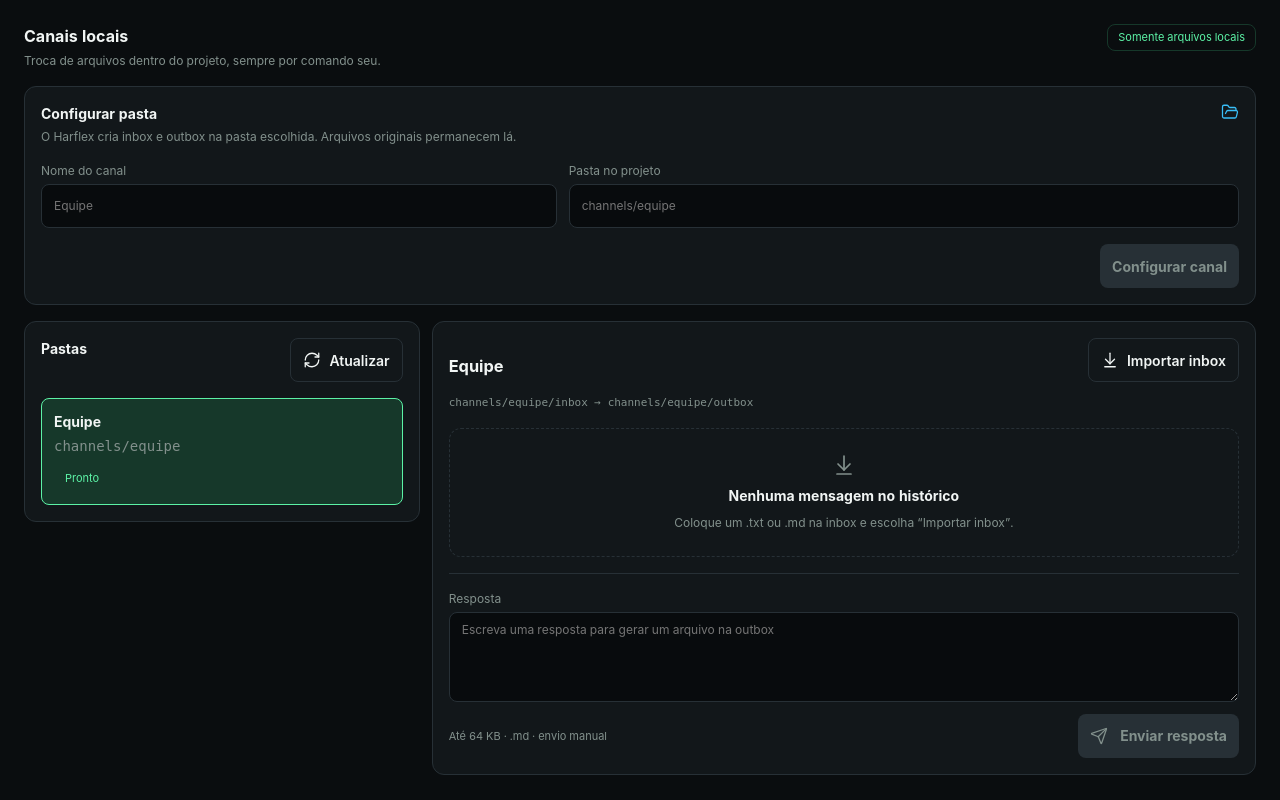
Test: uses durable delivery readback when the Wails response is lost
Expected: the button "Equipe channels/equipe Pronto" is shown, x1=41 y1=398 x2=403 y2=504
Type "Entrega confirmada." into the text box labelled "Resposta" at (844, 657), box x1=449 y1=612 x2=1239 y2=702
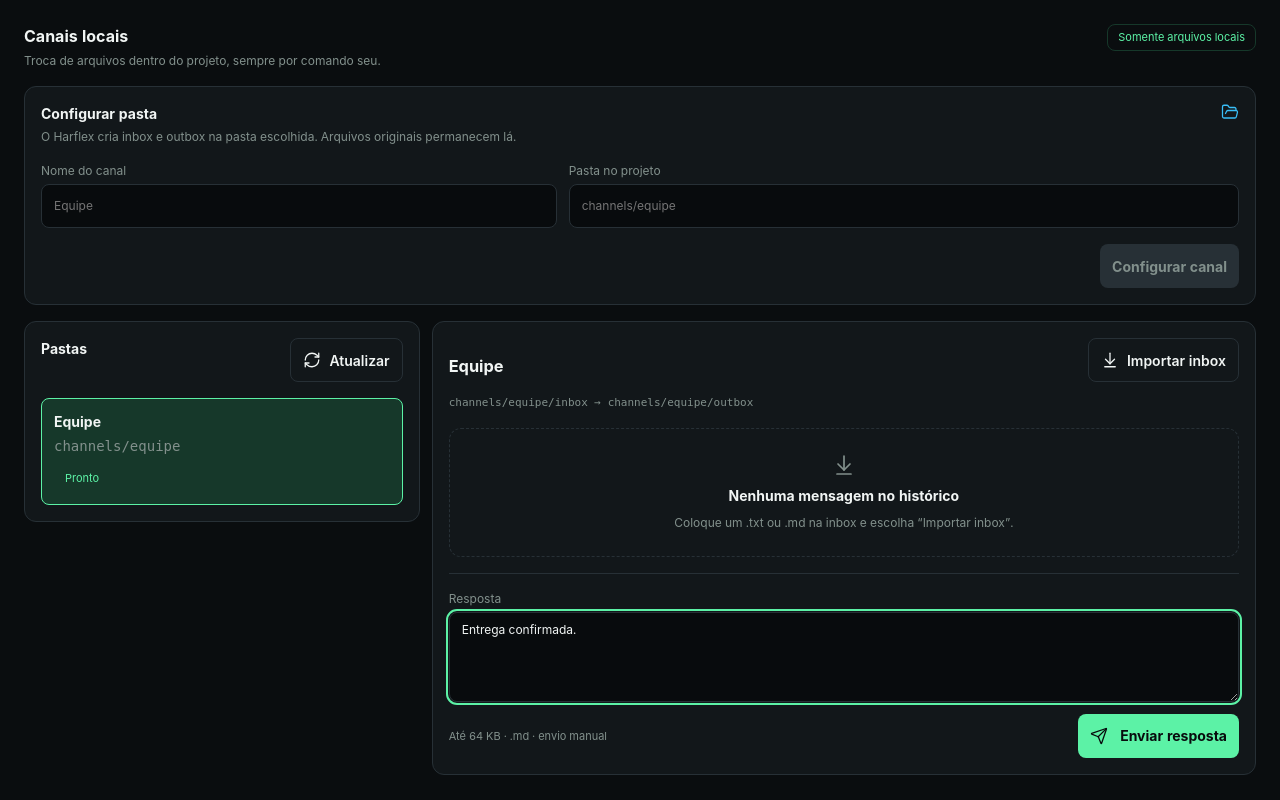
Click the button "Enviar resposta" at (1159, 736), box x1=1078 y1=714 x2=1239 y2=758
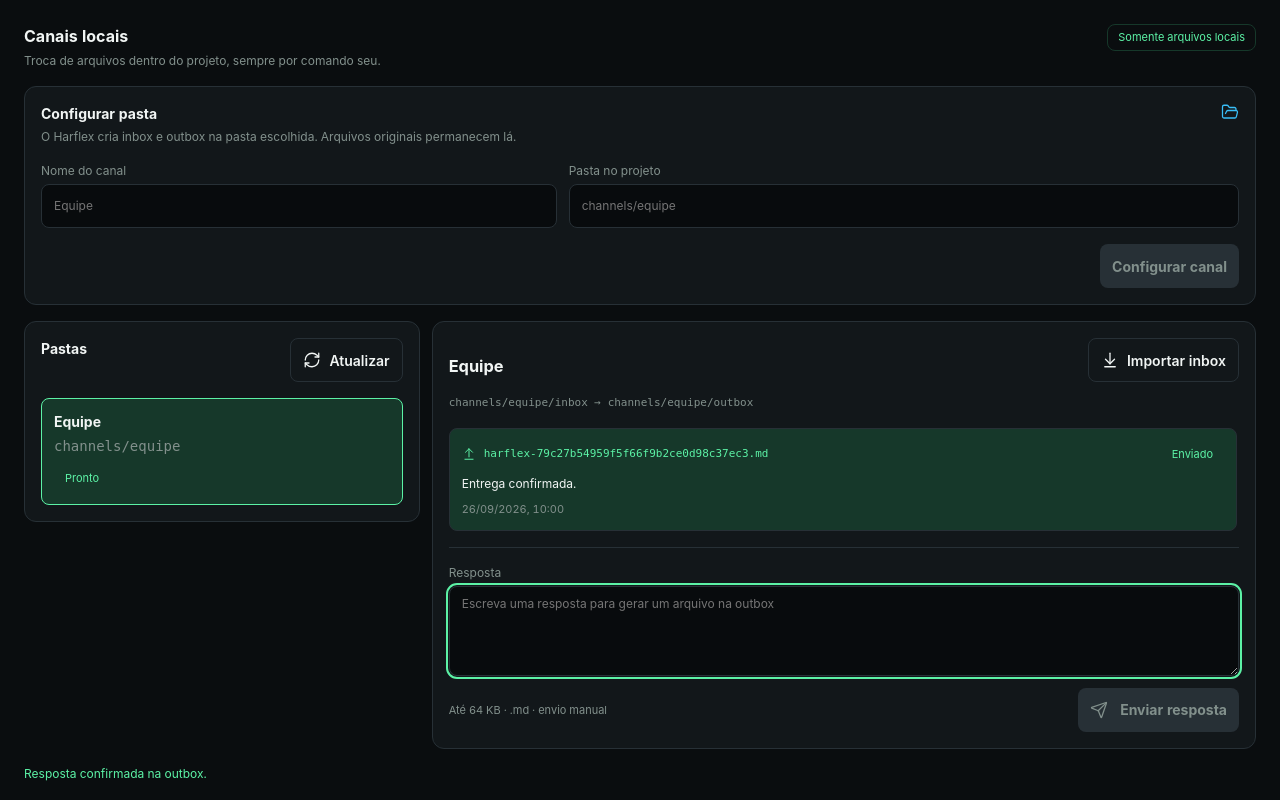
Now the text "Entrega confirmada." is shown, box x1=462 y1=476 x2=576 y2=491
Now the text box labelled "Resposta" is empty, box x1=449 y1=586 x2=1239 y2=676
